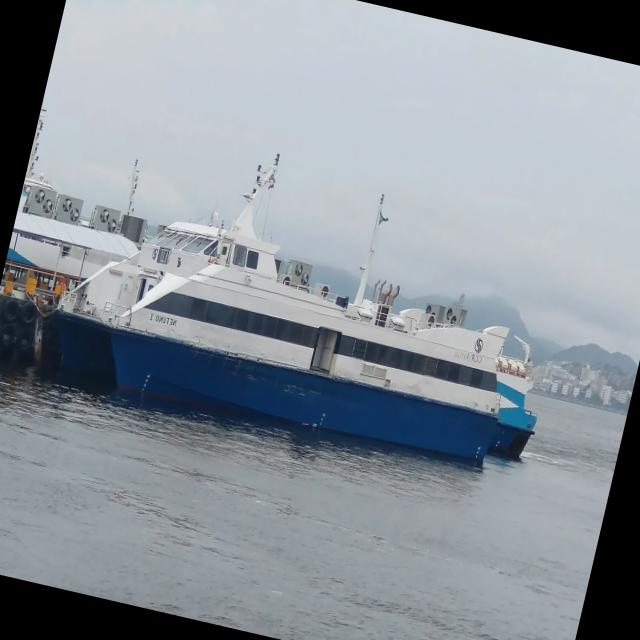Passenger: (57, 155, 536, 459)
